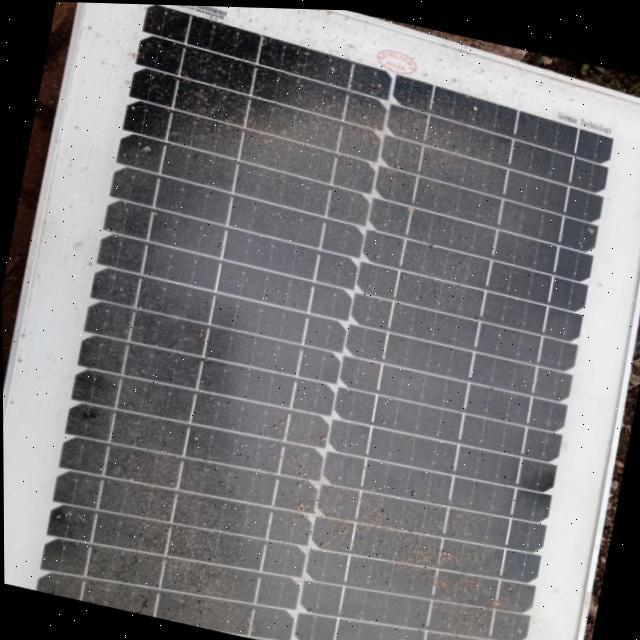Anomaly Solar Panel: (6, 0, 640, 640)
Surface Contaminant: (24, 11, 626, 640)
